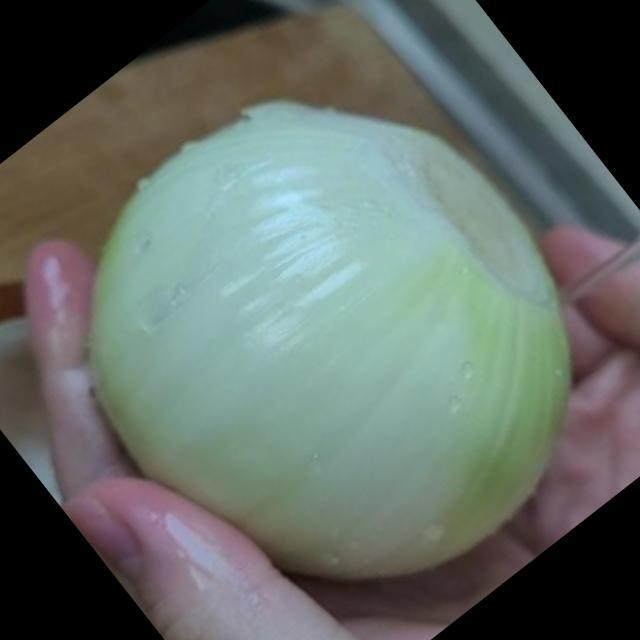Onion: (93, 108, 570, 576)
